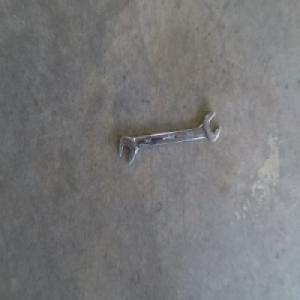Wrench: (119, 110, 220, 164)
